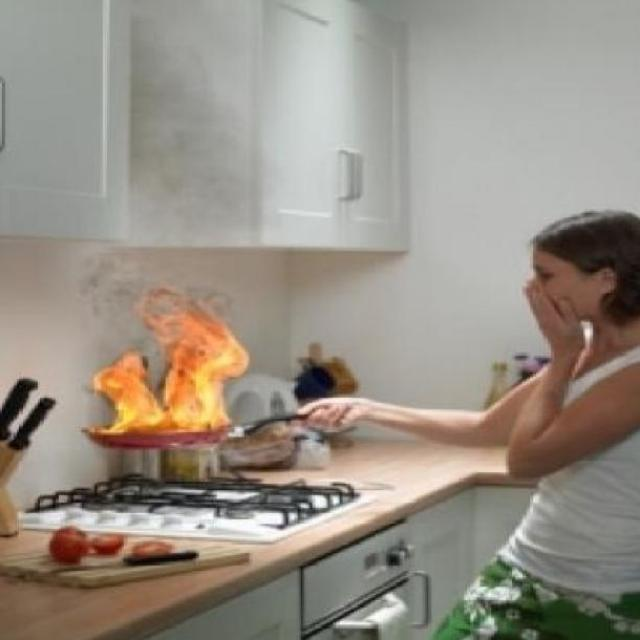smoke: (76, 292, 249, 435)
